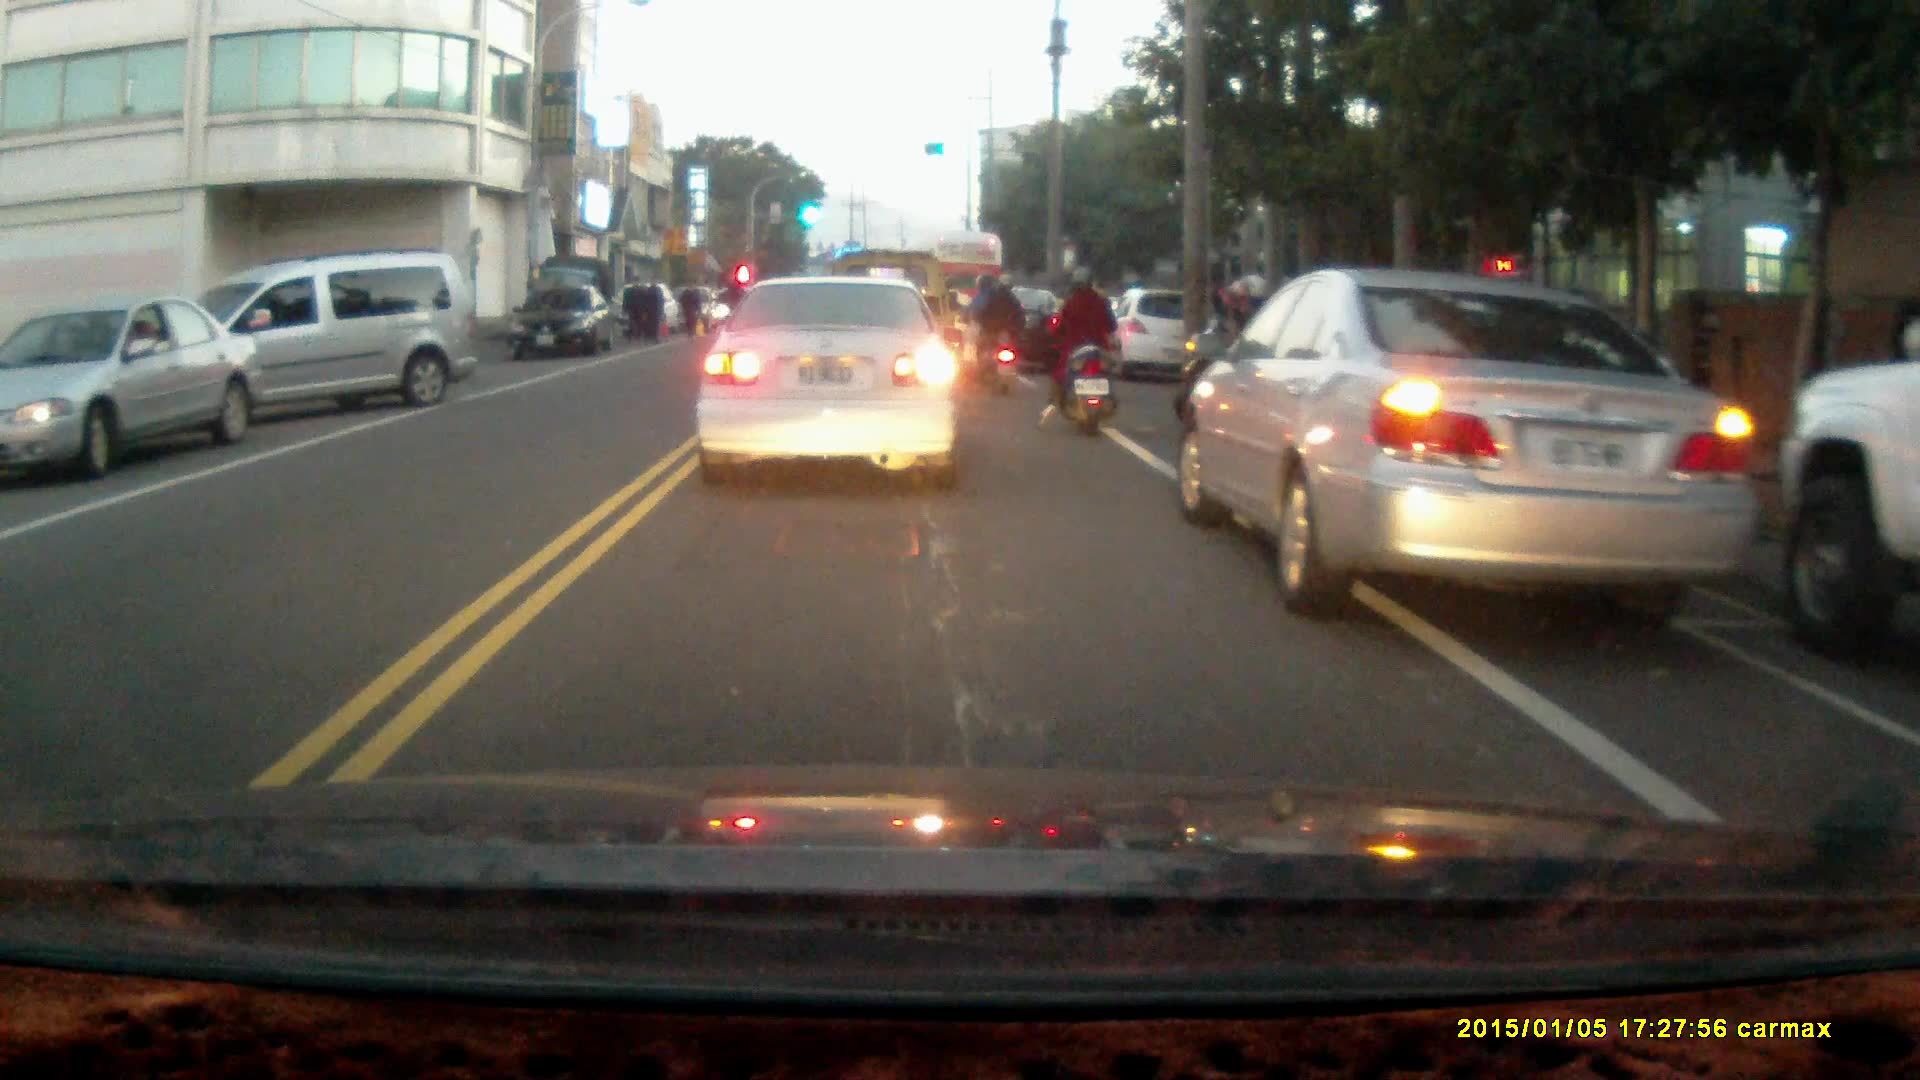pedestrian: (619, 271, 645, 342), (675, 272, 703, 337), (639, 269, 660, 346)
rider: (1173, 274, 1298, 442), (1030, 262, 1122, 436), (957, 268, 1026, 393)
vehicle: (1173, 261, 1757, 619), (144, 251, 479, 435), (692, 273, 964, 489), (1773, 312, 1920, 660), (1, 295, 260, 482), (1109, 288, 1192, 386), (512, 280, 615, 358)
